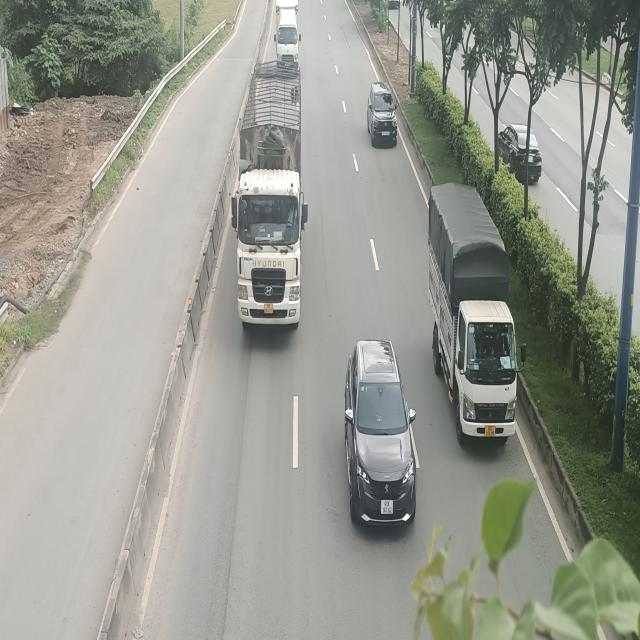car: (344, 342, 417, 528), (368, 82, 399, 150)
truck: (428, 183, 526, 446), (233, 62, 307, 330), (275, 0, 301, 66)
